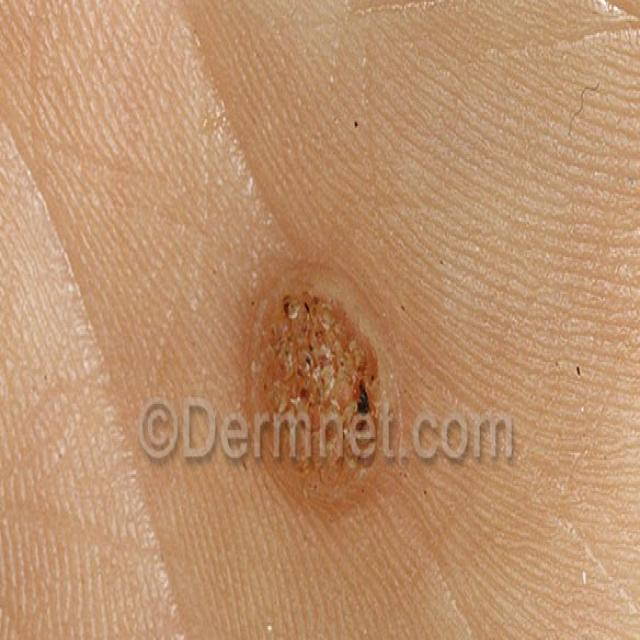Warts: (255, 261, 380, 522)
